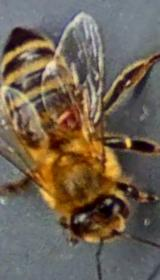varroa_mite: (51, 102, 87, 134)
